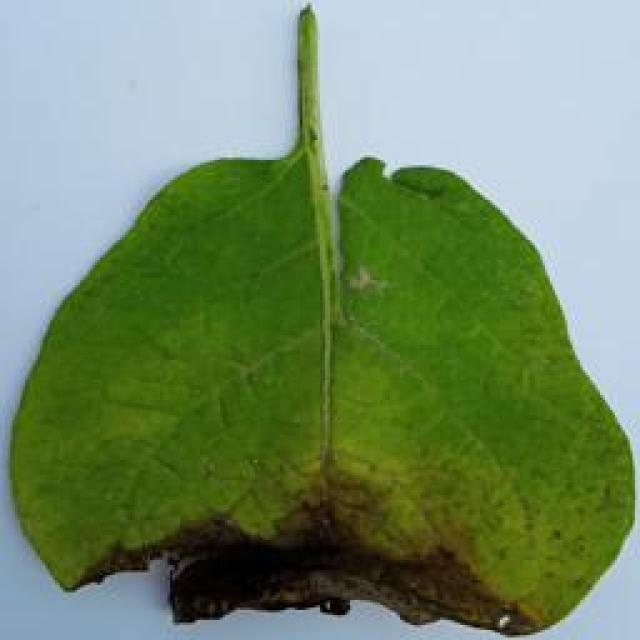Potato_Late_Blight: (10, 9, 625, 632)
